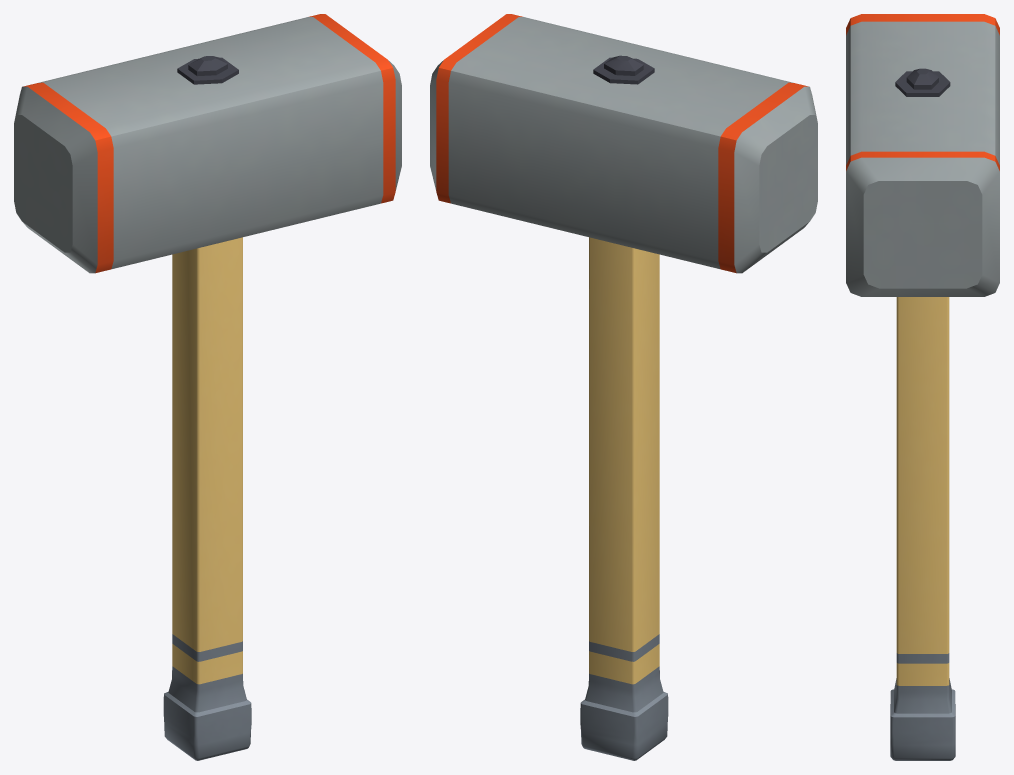
The model's file is Hammer_Lvl_6.fbx.
3 views of the same model, side by side, from view 1: azimuth 30°, elevation 25°; view 2: azimuth 150°, elevation 25°; view 3: azimuth 270°, elevation 25° (orthographic).
Parts seen in each view (by area): view 1: Hammer_Lvl6_Head, Hammer_Lvl6_Handle; view 2: Hammer_Lvl6_Head, Hammer_Lvl6_Handle; view 3: Hammer_Lvl6_Head, Hammer_Lvl6_Handle.
Boxes of the visible parts, x1,y1,x2,y2 form: Hammer_Lvl6_Head: (14,14,401,273); Hammer_Lvl6_Handle: (163,237,251,760); Hammer_Lvl6_Head: (430,14,817,273); Hammer_Lvl6_Handle: (580,237,668,760); Hammer_Lvl6_Head: (846,14,999,296); Hammer_Lvl6_Handle: (890,297,955,760).
Size of the model in its own units: 42.27 by 84.44 by 17.35.
